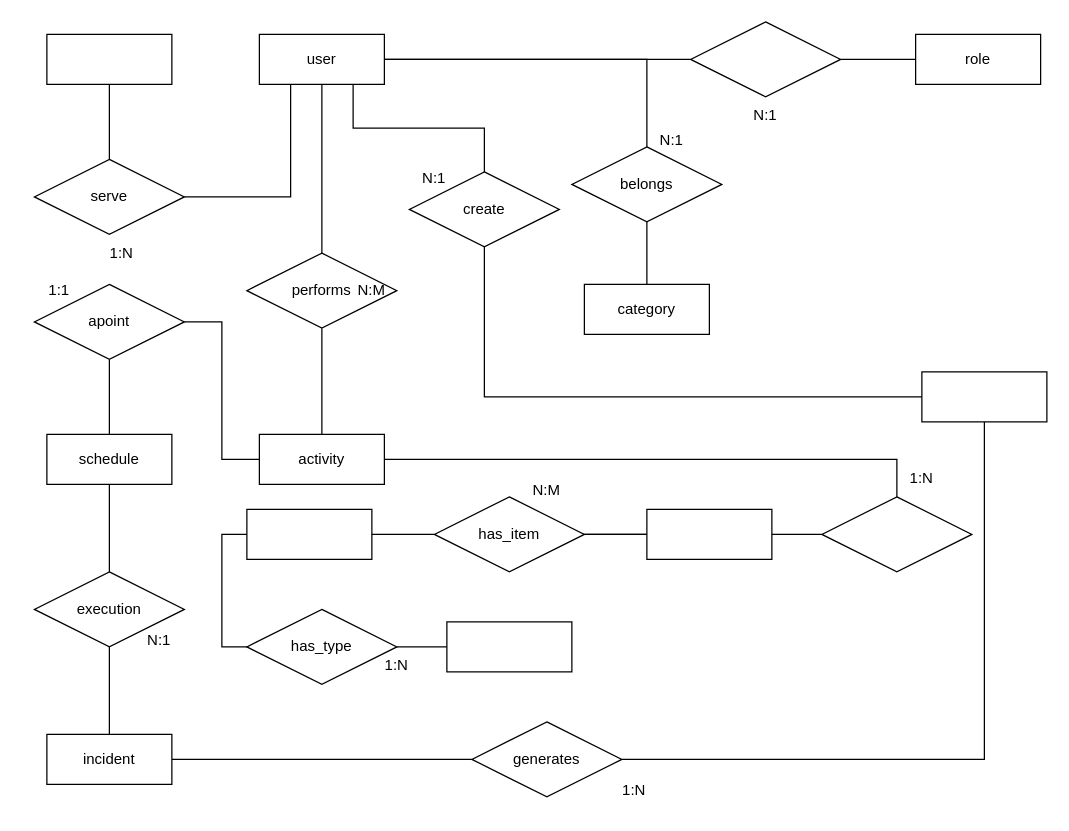
Some shapes in this 1069 by 831 pixel diagram are drawn without their labels. Here are the shapes that lost their labels. From the top down, the centre of each, then its label:
[109,58]: center
[765,59]: has
[984,396]: note
[309,533]: task_item
[709,533]: task
[896,534]: content
[509,646]: item_type
